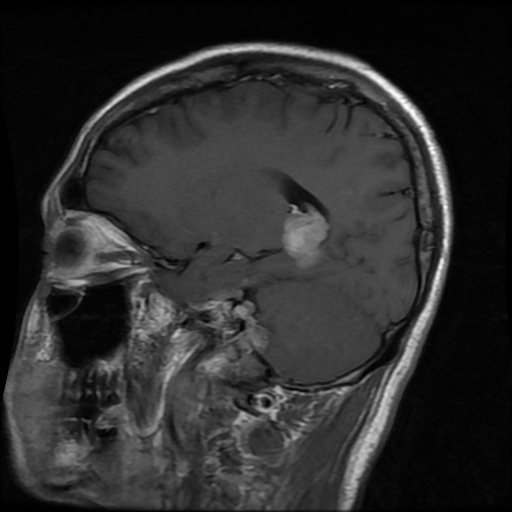meningioma: (282, 204, 330, 265)
